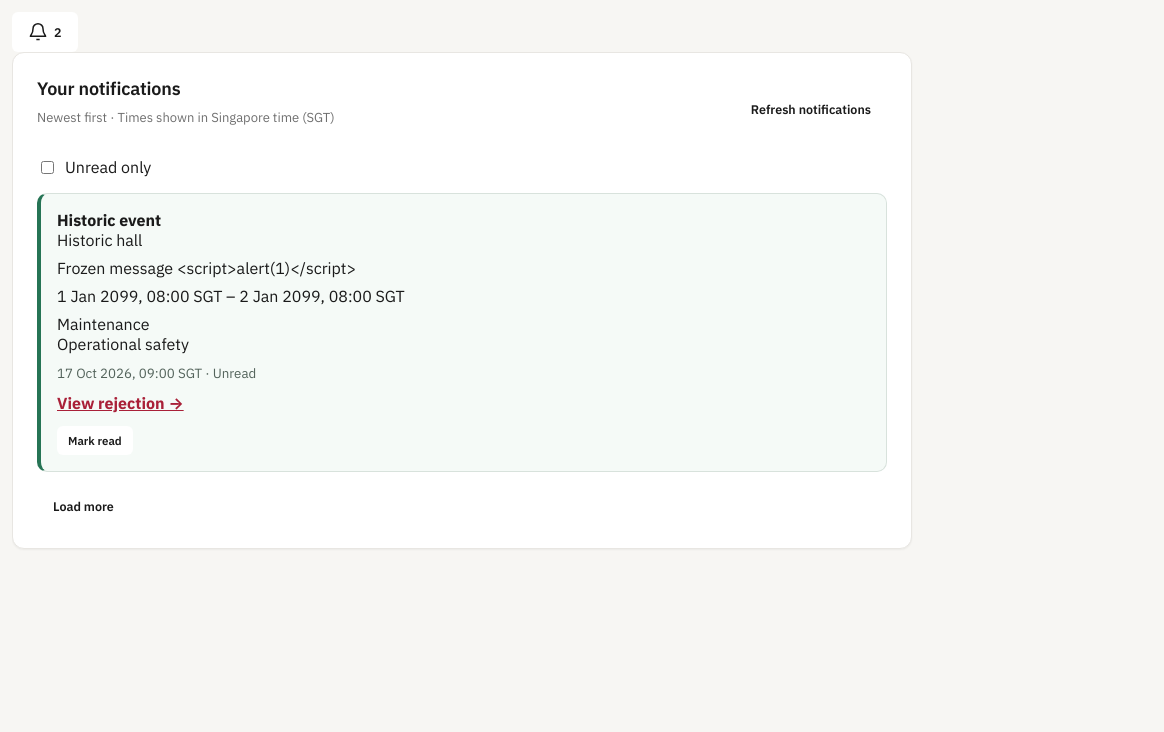
load-more outage keeps current rows and retry appends only previously unseen notices
Expected: the text "Historic event" is shown, [57,210,161,230]
What coordinates should you click on to do the following:
click the button "Load more"
I would click on:
 (83, 506)
Its box is [37,488,130,524].
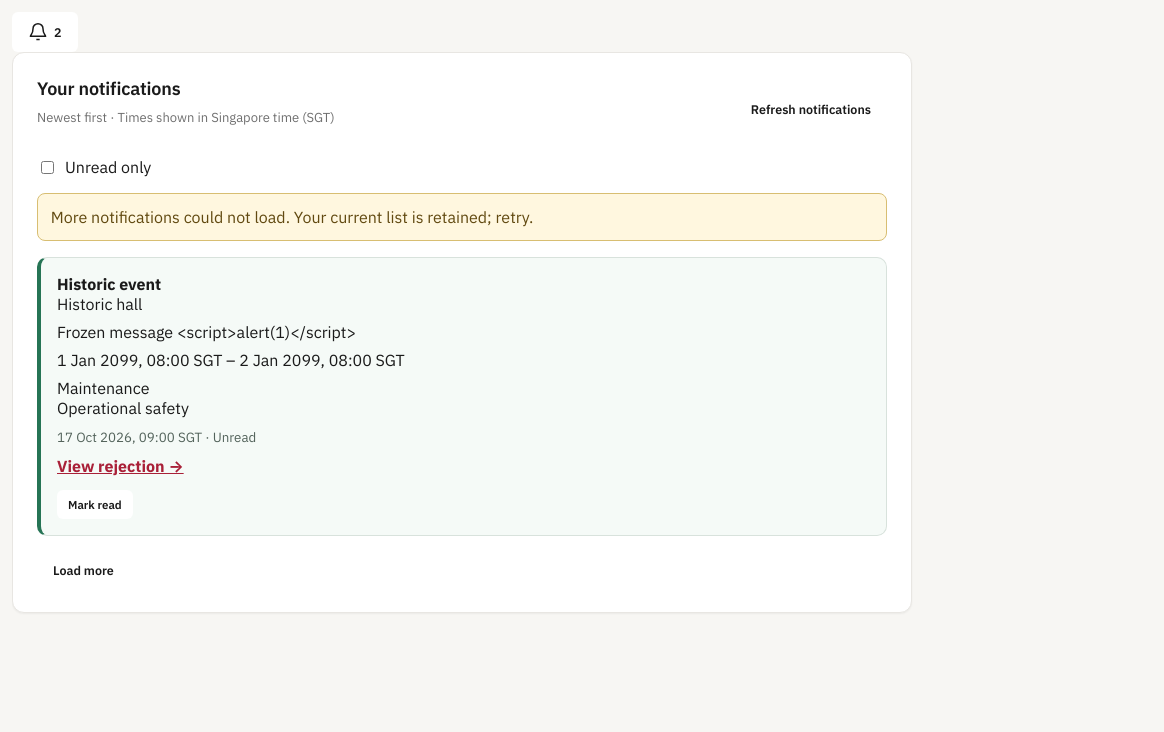
Expected: the text "Historic event" is shown, [57,274,161,294]
Now the message "More notifications could not load. Your current list is retained; retry." is shown, box [37,193,887,241]
Now the message shows "current list is retained", box [51,207,533,227]
What coordinates should you click on to do the following:
click the button "Load more"
I would click on:
 (83, 570)
Its box is [37,552,130,588].
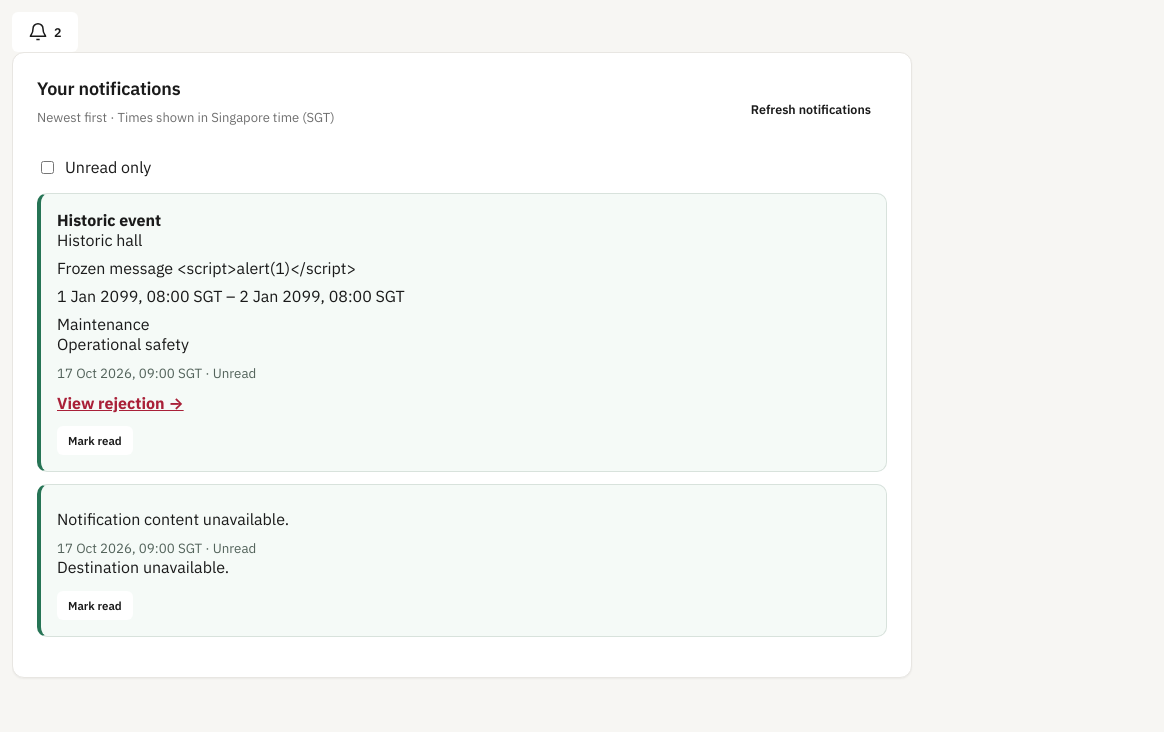
Now the text "Notification content unavailable." is shown, box [57,509,289,529]
Now the number of list items is 2, box [37,193,887,472]; [37,484,887,637]
Now the message "More notifications could not load. Your current list is retained; retry." is gone
